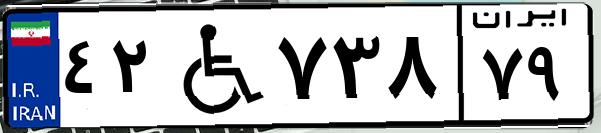2: (110, 28, 158, 98)
3: (330, 28, 385, 110)
4: (57, 26, 110, 100)
7: (270, 28, 330, 110), (475, 38, 525, 113)
8: (385, 28, 445, 110)
9: (525, 38, 570, 115)
ژ (معلولین و جانبازان): (158, 12, 270, 120)
